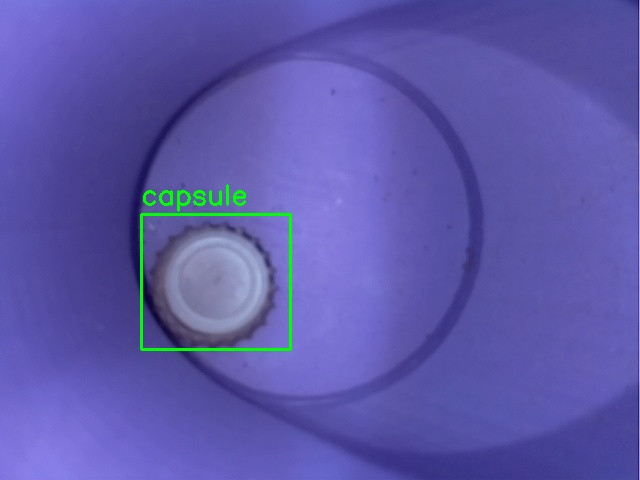capsule: (141, 214, 290, 349)
